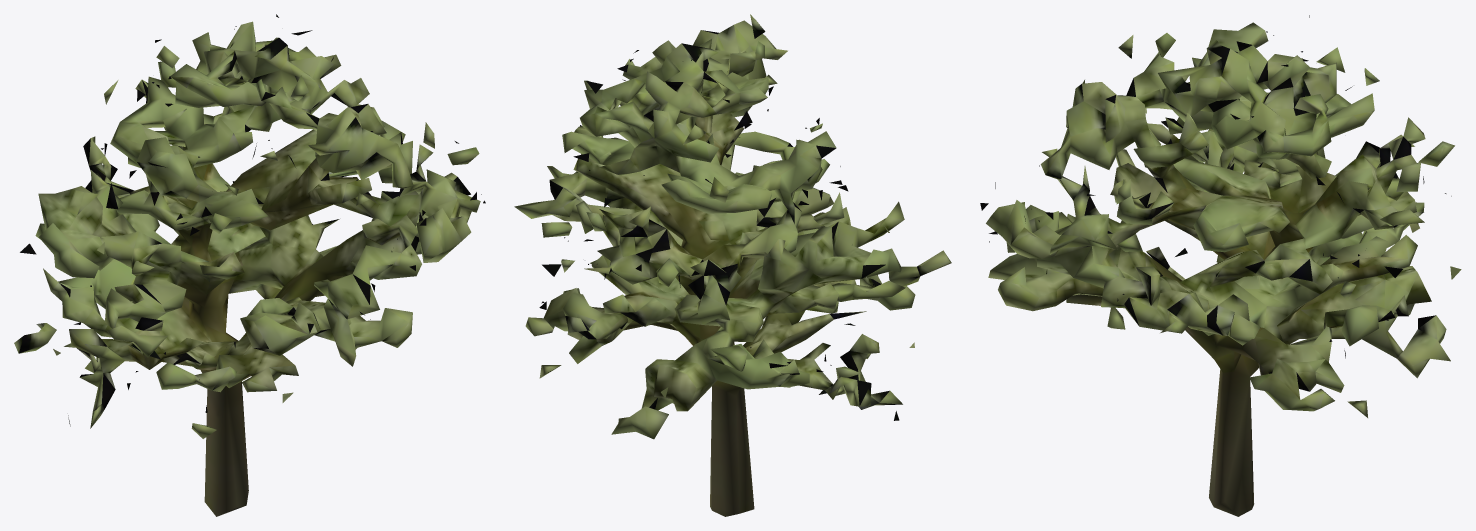
Rendered from tree_tall.glb.
The picture shows the model from 3 angles, left to right: view 1: azimuth 30°, elevation 25°; view 2: azimuth 150°, elevation 25°; view 3: azimuth 270°, elevation 25°; orthographic projection. The views are drawn at different scales.
Parts seen in each view (by area): view 1: tree_tall; view 2: tree_tall; view 3: tree_tall.
Boxes of the visible parts, left/top/right/bottom form: tree_tall: left=14, top=14, right=485, bottom=516; tree_tall: left=514, top=14, right=951, bottom=516; tree_tall: left=980, top=15, right=1461, bottom=516.
Size of the model in its own units: 9.25 by 10.34 by 9.23.
Materials: 1 (1 with a texture image).
